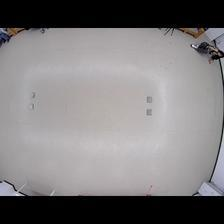fall: (189, 40, 224, 66)
